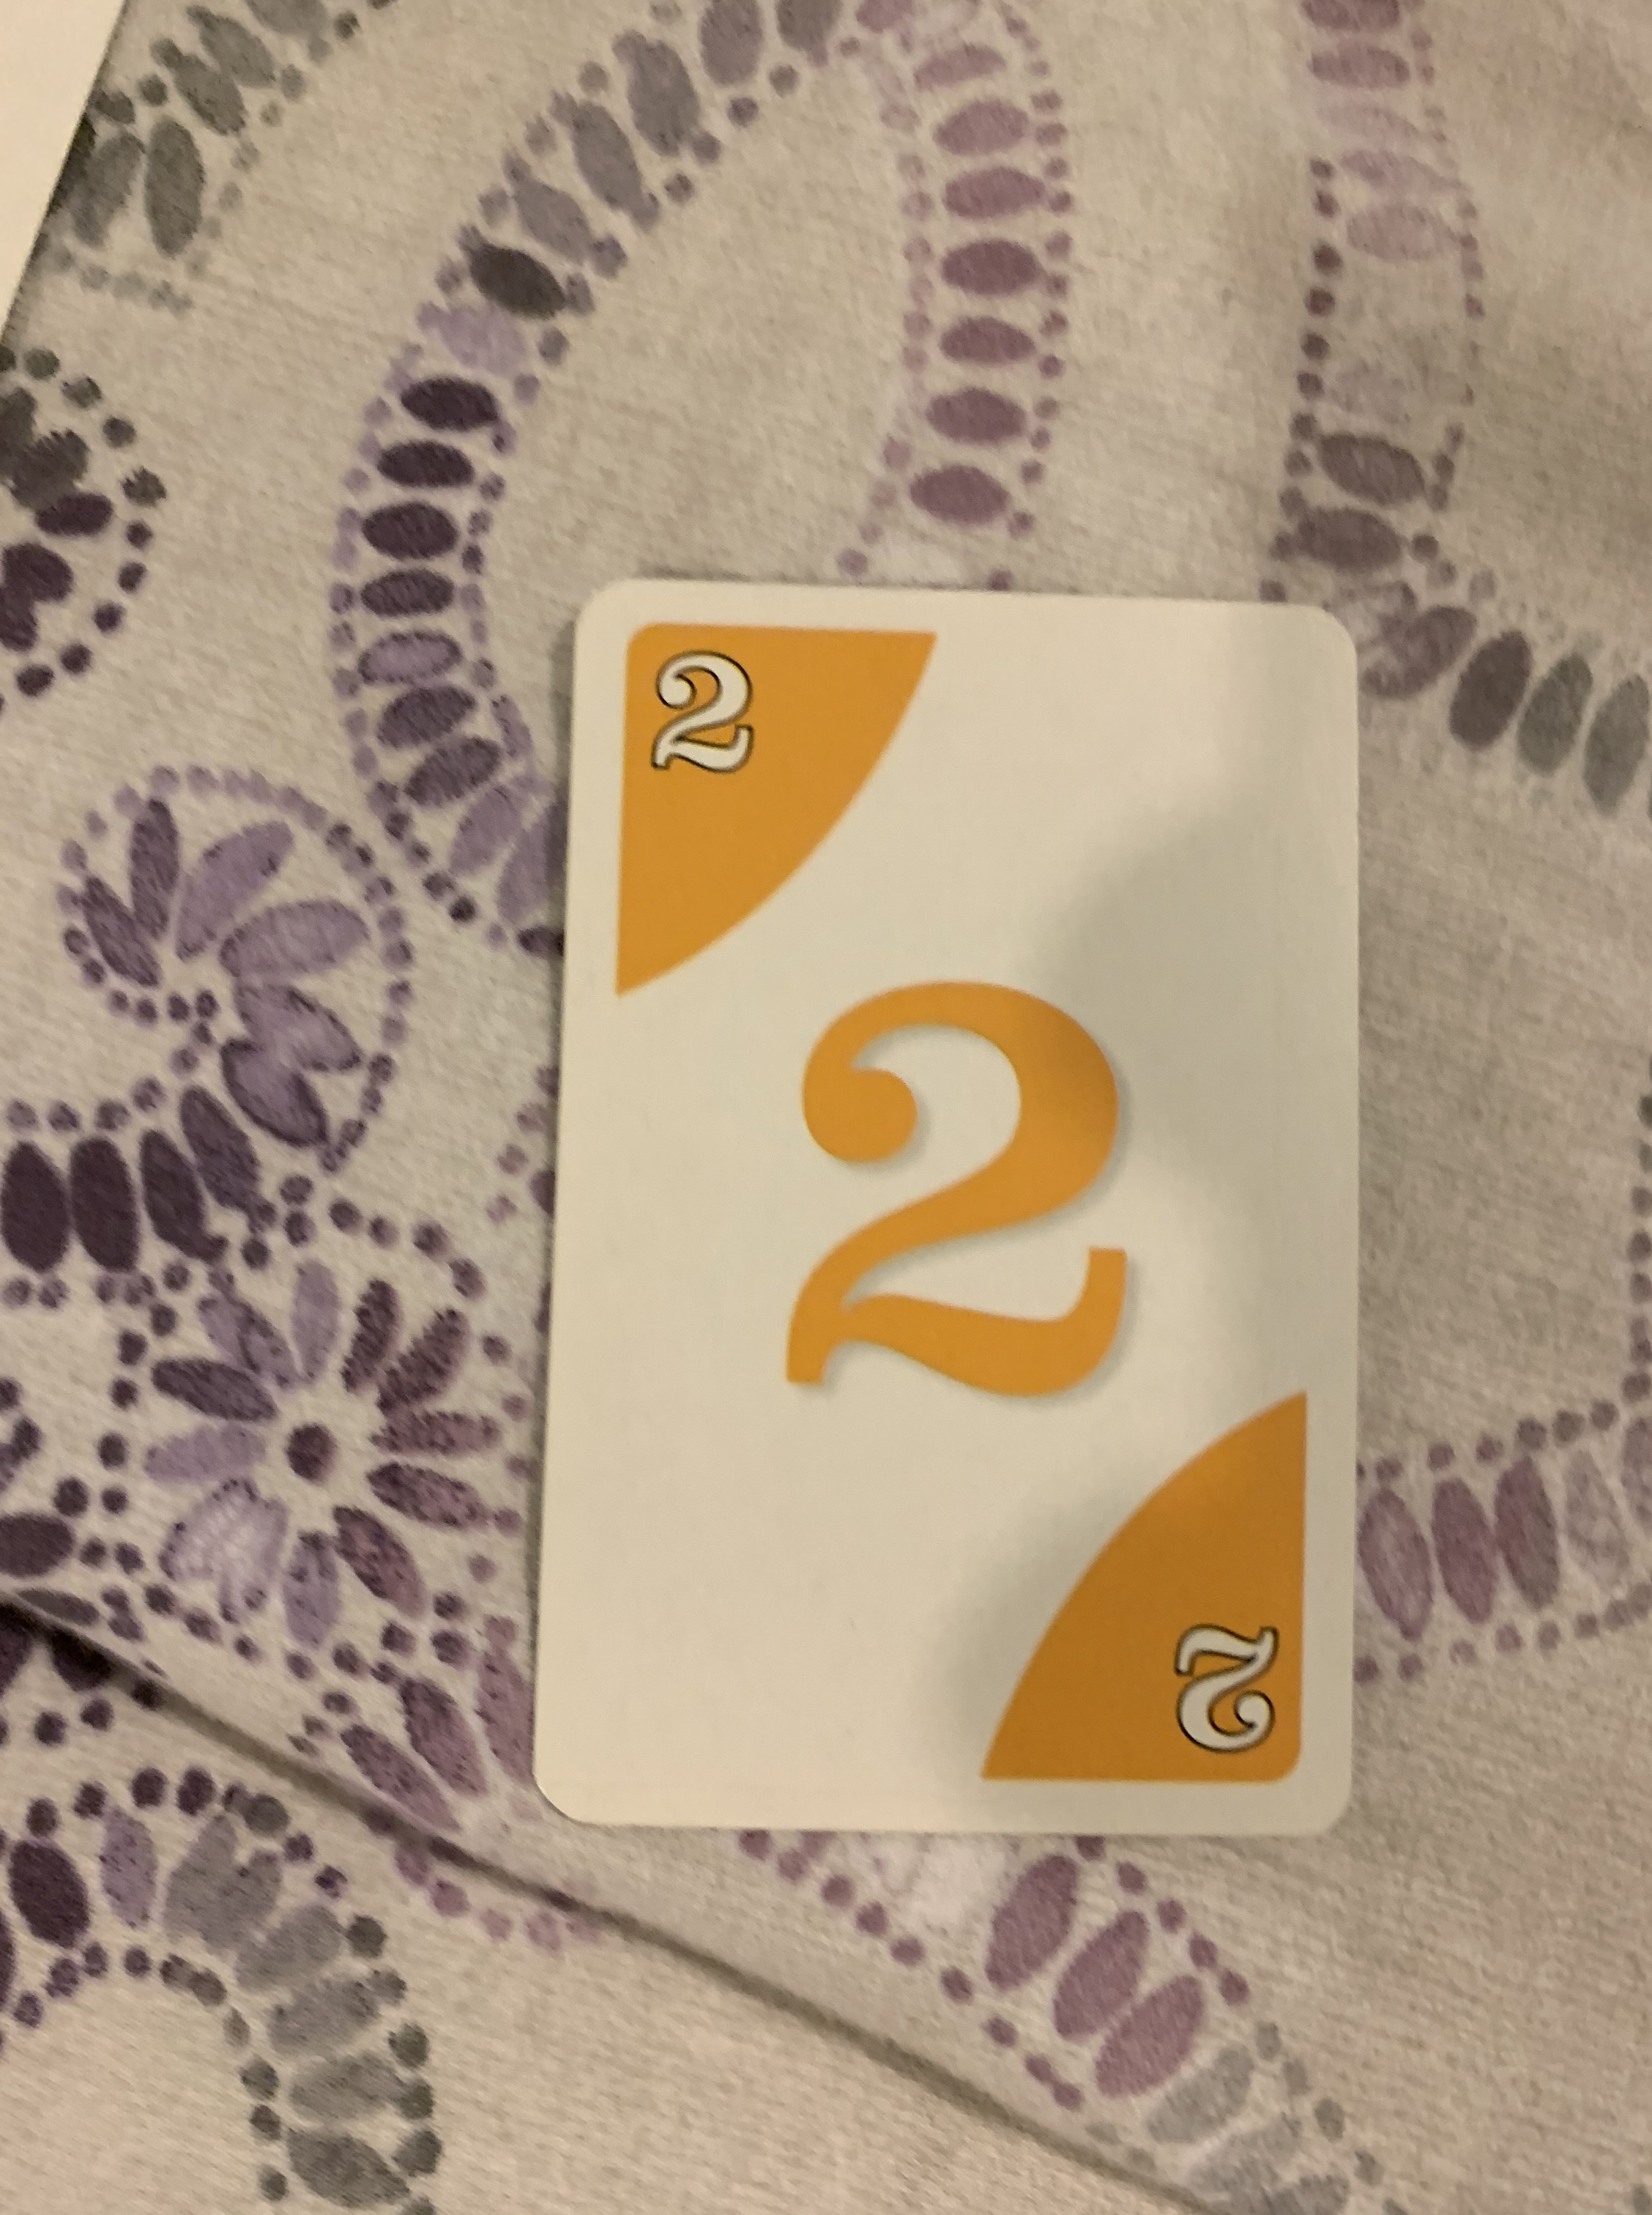two: (515, 568, 1373, 1840)
